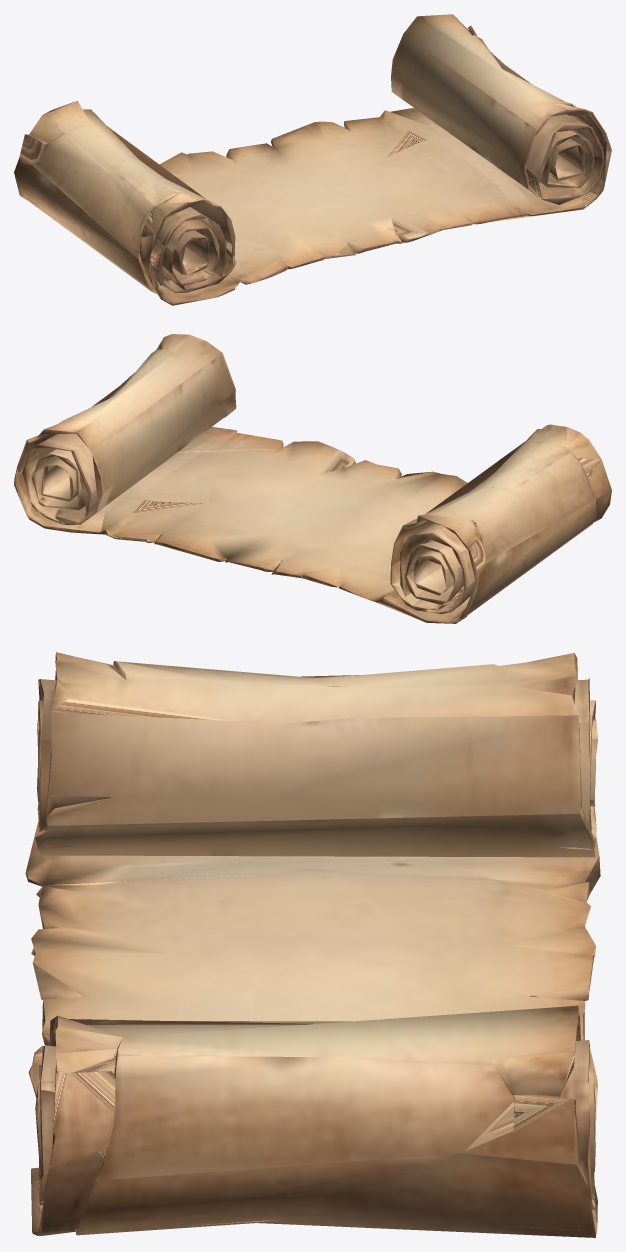
3 renders of one model, top to bottom at view 1: azimuth 30°, elevation 25°; view 2: azimuth 150°, elevation 25°; view 3: azimuth 270°, elevation 25°, orthographic. The views are drawn at different scales.
Visible parts, largest first — view 1: geometry_0; view 2: geometry_0; view 3: geometry_0.
Part boxes in pixels (bbox=[...]): geometry_0: bbox=[14, 14, 611, 305]; geometry_0: bbox=[14, 334, 611, 623]; geometry_0: bbox=[25, 652, 600, 1237].
Bounding box in the file's own units: 0.5998 × 0.1245 × 0.3231.
1 material, 1 textured.
